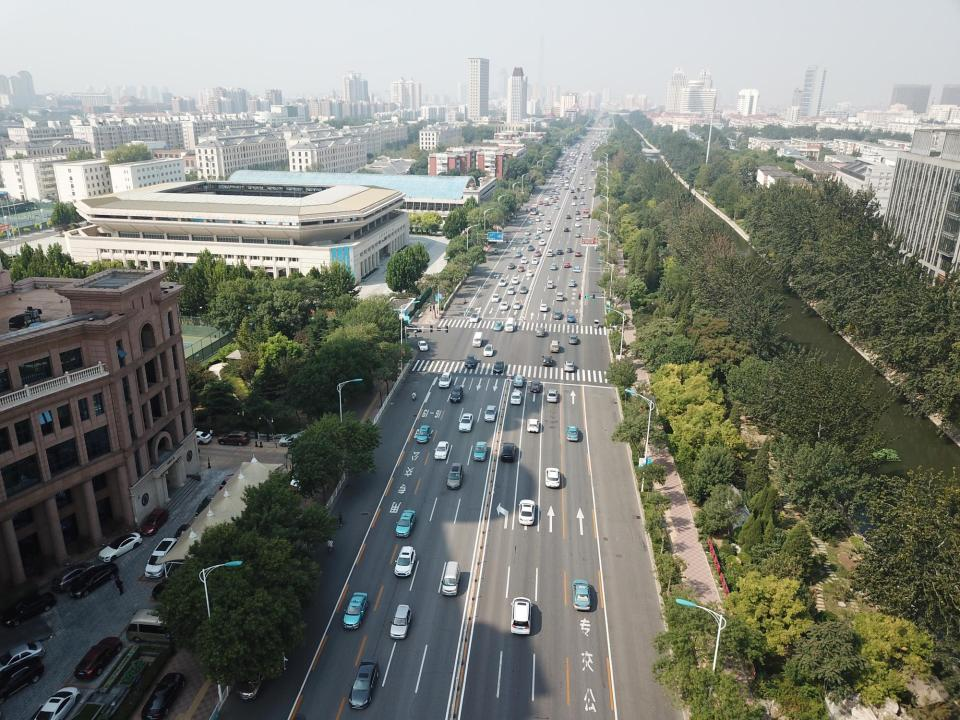bus: (582, 206, 590, 217)
car: (0, 639, 45, 705), (74, 634, 125, 682), (3, 588, 57, 628), (66, 560, 121, 598), (30, 686, 82, 720), (50, 560, 98, 593), (144, 536, 178, 580), (341, 592, 367, 630), (510, 596, 533, 634), (390, 604, 412, 640), (394, 546, 417, 578), (218, 427, 252, 447), (572, 578, 591, 612), (395, 509, 416, 539), (278, 433, 311, 448), (518, 499, 536, 526), (499, 442, 517, 463), (543, 467, 560, 489), (194, 428, 212, 446), (471, 441, 488, 460), (415, 426, 432, 444), (458, 413, 474, 432), (434, 441, 449, 459), (450, 385, 463, 404), (566, 424, 579, 441), (485, 404, 496, 423), (438, 372, 451, 388), (510, 391, 523, 406), (527, 418, 539, 434), (546, 389, 558, 404), (540, 354, 554, 366), (493, 359, 504, 374), (549, 340, 561, 353), (483, 344, 495, 357), (417, 340, 429, 352), (564, 360, 575, 373), (530, 381, 541, 394), (513, 374, 524, 387), (404, 324, 421, 332), (535, 327, 546, 337), (469, 312, 479, 323), (552, 310, 562, 320), (490, 293, 500, 303), (568, 335, 579, 344), (506, 285, 515, 295), (499, 301, 509, 310), (512, 300, 521, 310), (492, 322, 502, 331), (568, 278, 576, 289), (566, 314, 575, 323), (498, 278, 507, 287), (539, 304, 549, 312), (519, 286, 528, 294), (520, 256, 528, 264), (508, 262, 516, 270), (511, 276, 519, 284), (574, 251, 582, 258), (534, 250, 542, 257), (530, 258, 538, 265), (550, 263, 558, 270), (527, 244, 534, 252), (514, 251, 522, 258), (536, 227, 543, 234), (539, 239, 546, 246), (574, 232, 582, 238), (555, 249, 563, 255), (564, 261, 570, 269), (563, 226, 570, 232), (535, 216, 542, 222), (526, 270, 532, 277), (566, 214, 572, 220), (574, 222, 580, 228), (566, 247, 572, 253), (534, 233, 540, 239), (524, 230, 530, 236), (522, 238, 529, 243), (574, 210, 580, 215), (575, 216, 581, 221), (546, 220, 552, 224), (538, 201, 543, 204)
truck: (504, 316, 516, 332), (472, 332, 483, 346)
van: (126, 608, 202, 648), (140, 671, 188, 720), (348, 659, 380, 710), (236, 660, 270, 702), (98, 532, 144, 562), (140, 507, 170, 536), (442, 561, 460, 596), (446, 463, 464, 490), (464, 354, 478, 368), (530, 204, 539, 215), (546, 279, 554, 289), (517, 264, 525, 274), (556, 291, 563, 302), (546, 249, 553, 257), (544, 224, 551, 231), (538, 211, 545, 217)
